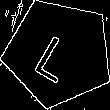L_NE: (32, 23, 85, 83)
